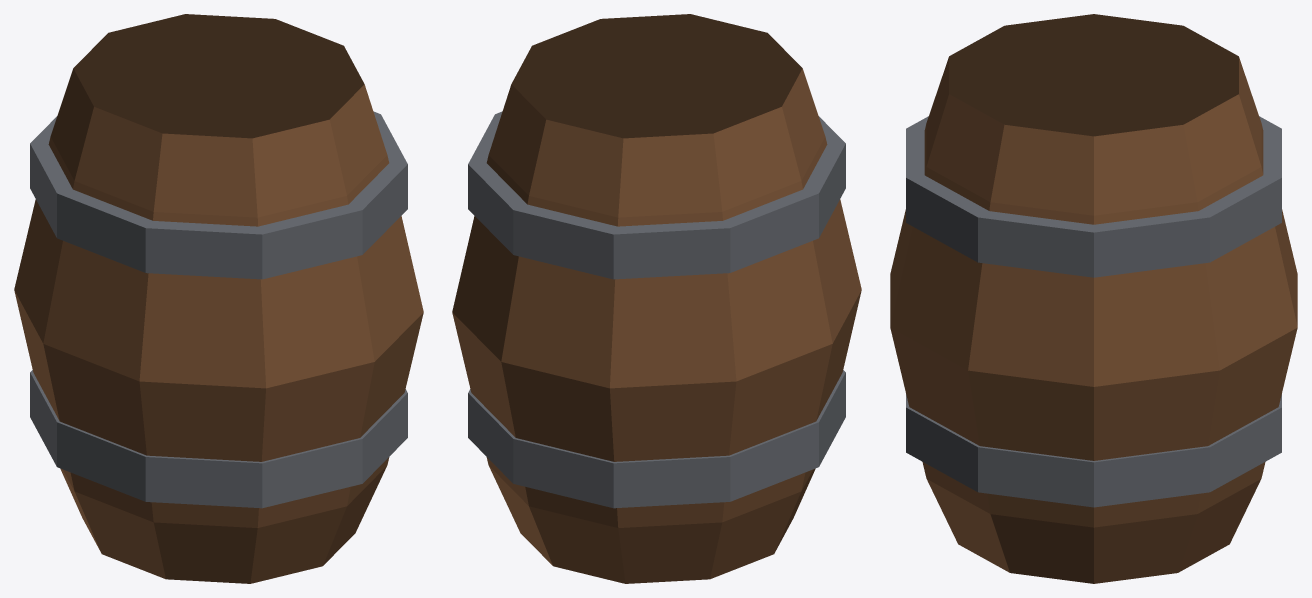
Rendered from SN_Barrel.glb.
The picture shows the model from 3 angles, left to right: view 1: azimuth 30°, elevation 25°; view 2: azimuth 150°, elevation 25°; view 3: azimuth 270°, elevation 25°; orthographic projection.
Parts seen in each view (by area): view 1: SN_Barrel; view 2: SN_Barrel; view 3: SN_Barrel.
Boxes of the visible parts, box(x1,y1,x2,y2) form: SN_Barrel: box(14, 14, 423, 583); SN_Barrel: box(452, 14, 861, 583); SN_Barrel: box(890, 14, 1297, 583).
Bounding box in the file's own units: 0.9 × 1.1 × 0.9.
